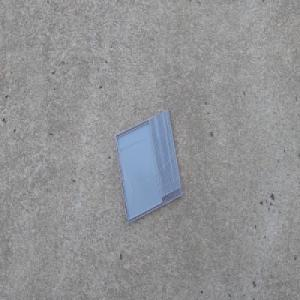PlasticPart: (114, 108, 183, 224)
